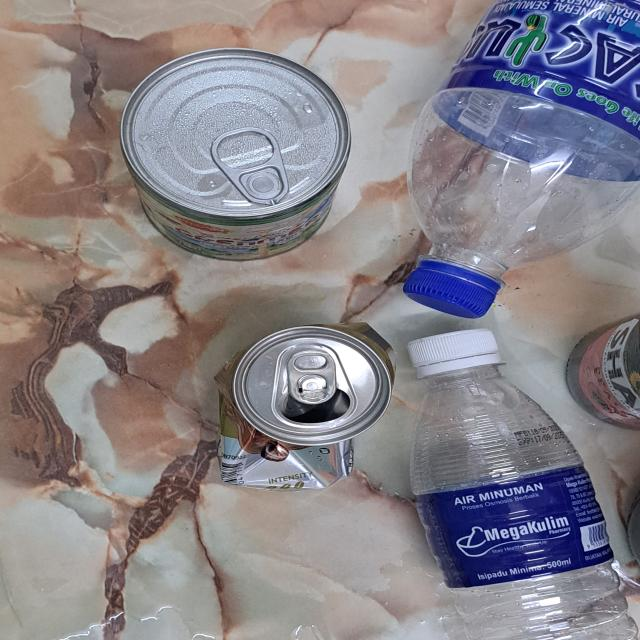can: (120, 46, 352, 262), (210, 320, 398, 491)
glass bottle: (565, 313, 640, 429)
plastic bottle: (408, 0, 640, 283), (413, 364, 640, 639)
plastic bottle cap: (406, 262, 499, 320), (408, 328, 501, 374)
pop tab: (210, 127, 291, 206), (288, 349, 338, 403)
